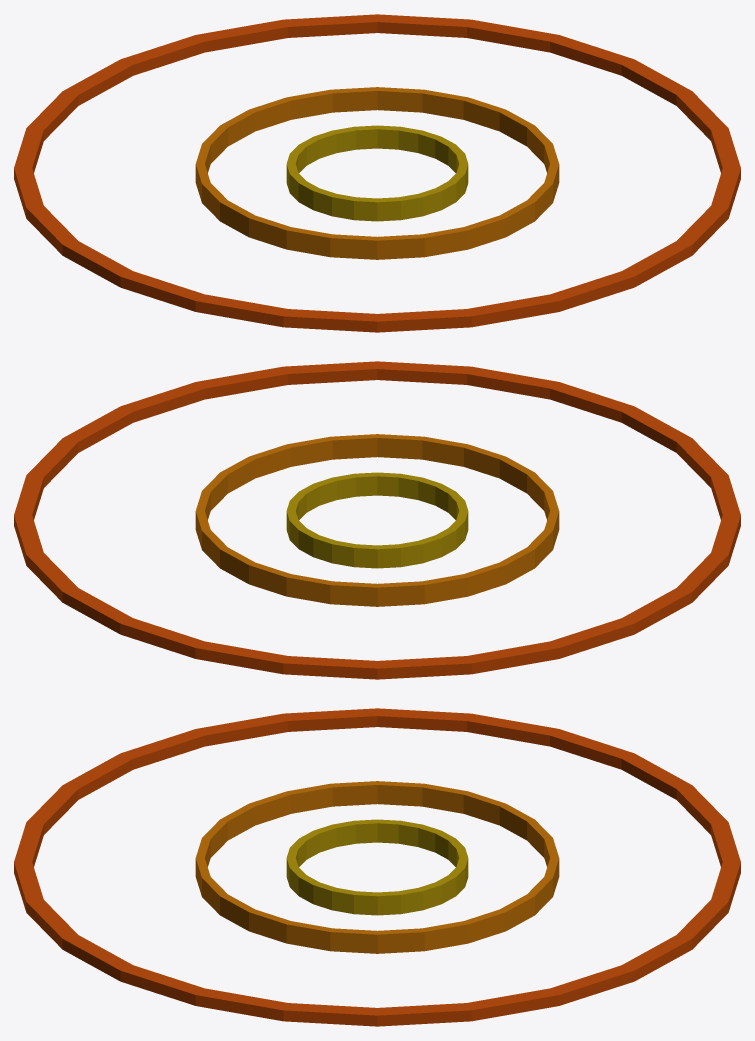
The model's file is anchor_preview.glb.
3 renders of one model, top to bottom at view 1: azimuth 30°, elevation 25°; view 2: azimuth 150°, elevation 25°; view 3: azimuth 270°, elevation 25°, orthographic.
Parts seen in each view (by area): view 1: Mesh_Mesh_head_geo.001_lambert2SG.001, Mesh_Mesh_head_geo.001_lambert2SG.002, Mesh_Mesh_head_geo.001_lambert2SG.003; view 2: Mesh_Mesh_head_geo.001_lambert2SG.001, Mesh_Mesh_head_geo.001_lambert2SG.002, Mesh_Mesh_head_geo.001_lambert2SG.003; view 3: Mesh_Mesh_head_geo.001_lambert2SG.001, Mesh_Mesh_head_geo.001_lambert2SG.002, Mesh_Mesh_head_geo.001_lambert2SG.003.
Part boxes in pixels (bbox=[...]): Mesh_Mesh_head_geo.001_lambert2SG.001: bbox=[14, 14, 740, 332]; Mesh_Mesh_head_geo.001_lambert2SG.002: bbox=[195, 87, 559, 259]; Mesh_Mesh_head_geo.001_lambert2SG.003: bbox=[286, 125, 468, 221]; Mesh_Mesh_head_geo.001_lambert2SG.001: bbox=[14, 361, 740, 679]; Mesh_Mesh_head_geo.001_lambert2SG.002: bbox=[195, 434, 559, 606]; Mesh_Mesh_head_geo.001_lambert2SG.003: bbox=[286, 472, 468, 568]; Mesh_Mesh_head_geo.001_lambert2SG.001: bbox=[14, 708, 740, 1026]; Mesh_Mesh_head_geo.001_lambert2SG.002: bbox=[195, 781, 559, 953]; Mesh_Mesh_head_geo.001_lambert2SG.003: bbox=[286, 819, 468, 915].
Bounding box in the file's own units: 1.2 × 0.035 × 1.2.
